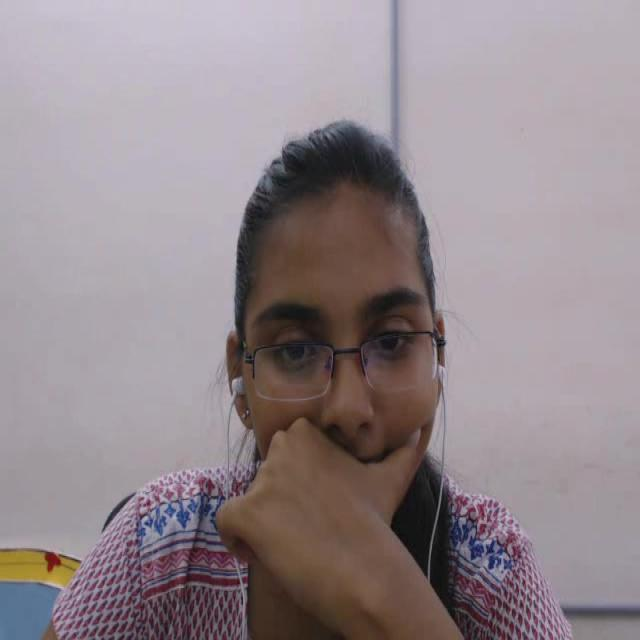Bored: (212, 92, 475, 550)
